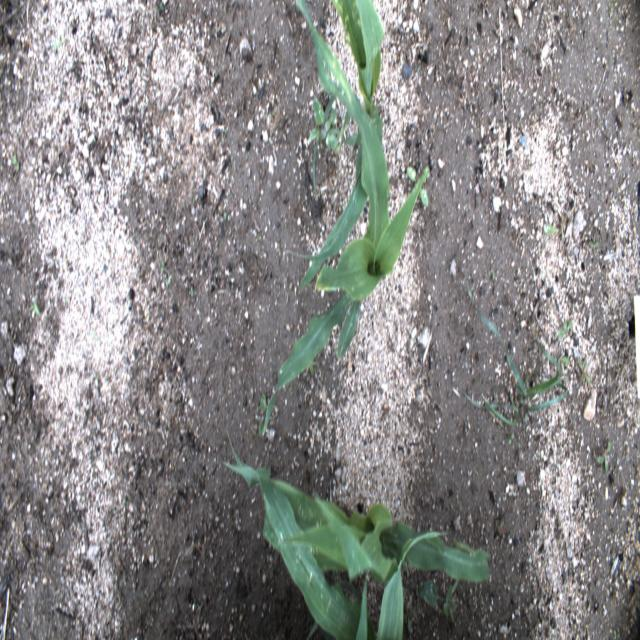crop: (266, 0, 429, 428), (222, 460, 449, 640), (228, 435, 491, 584), (286, 0, 386, 293)
weed: (463, 277, 569, 431), (310, 100, 342, 149), (408, 160, 428, 207), (576, 354, 594, 390), (441, 582, 458, 619), (312, 133, 322, 193), (418, 580, 439, 608), (598, 443, 610, 473), (258, 394, 266, 437), (29, 294, 42, 318), (557, 320, 573, 339), (52, 35, 65, 55), (591, 234, 600, 252), (542, 223, 554, 235), (161, 262, 169, 278), (13, 156, 20, 172)
